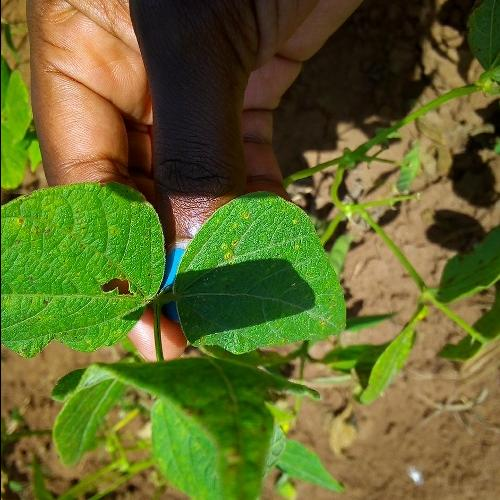mozaik: (0, 182, 167, 361)
